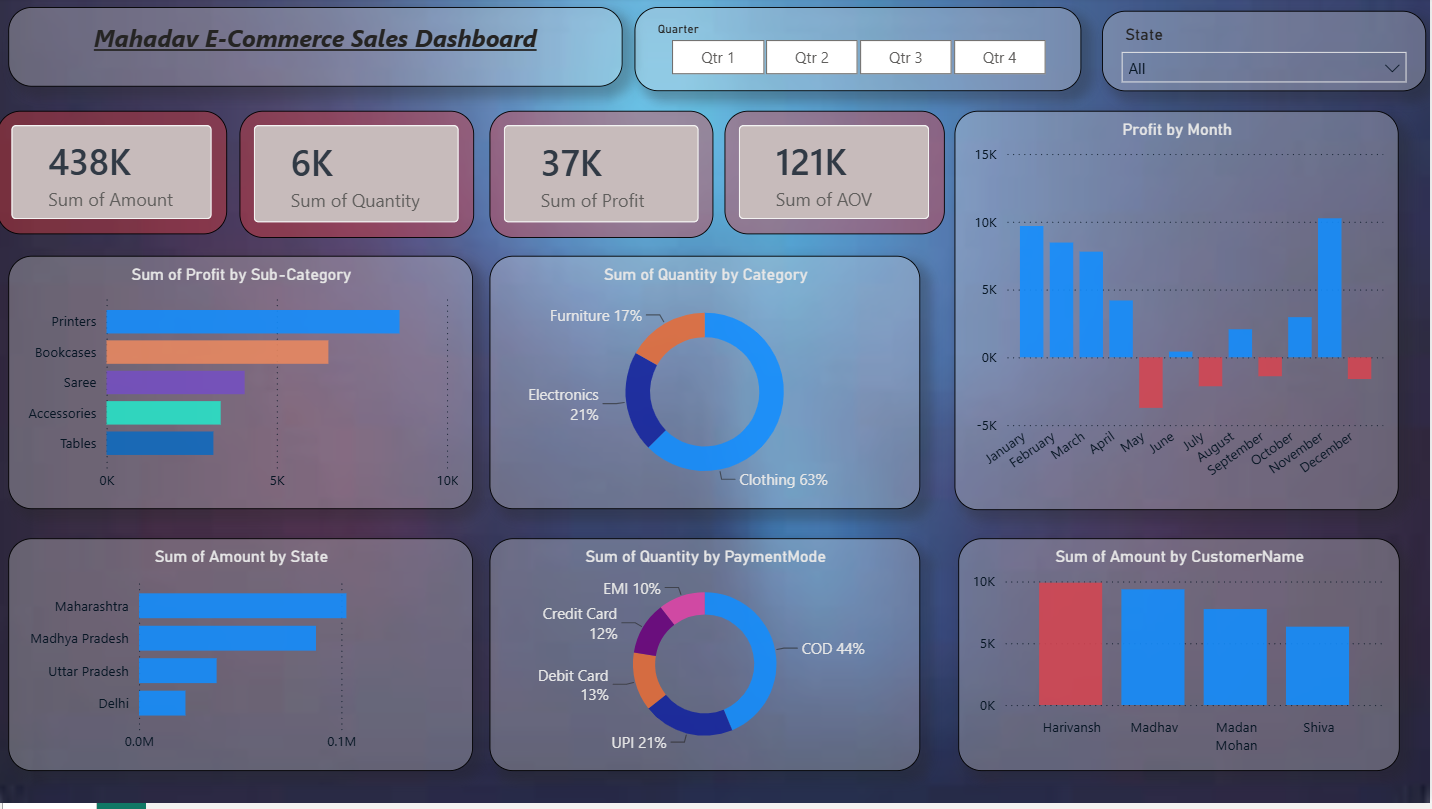

Layout of this report page (visuals, bound fields, positions):
{"tool":"powerbi","page":{"name":"Page 1","canvas":[1280,720],"ordinal":0},"visuals":[{"type":"textbox","box":[10.5,9.3,548.8,70.9],"z":0},{"type":"columnChart","title":"Profit by Month","fields":{"Category":["Orders (1).Order Date.Variation.Date Hierarchy.Month"],"Y":["Sum(Details (1).Profit)"]},"box":[855.8,101.2,396.5,357],"z":1000},{"type":"barChart","fields":{"Category":["Details (1).Sub-Category"],"Y":["Sum(Details (1).Profit)"]},"box":[10.5,231.4,415.1,226.7],"z":2000},{"type":"donutChart","fields":{"Category":["Details (1).Category"],"Y":["Sum(Details (1).Quantity)"]},"box":[439.5,231.4,384.9,226.7],"z":3000},{"type":"donutChart","fields":{"Category":["Details (1).PaymentMode"],"Y":["Sum(Details (1).Quantity)"]},"box":[439.5,483.7,384.9,208.1],"z":4000},{"type":"cardVisual","fields":{"Data":["Sum(Details (1).Amount)"]},"box":[0,101.2,205.8,110.5],"z":4001},{"type":"cardVisual","fields":{"Data":["Sum(Details (1).Quantity)"]},"box":[216.3,101.2,209.3,114],"z":4002},{"type":"cardVisual","fields":{"Data":["Sum(Details (1).Profit)"]},"box":[439.5,101.2,200,114],"z":4003},{"type":"cardVisual","fields":{"Data":["Sum(Details (1).AOV)"]},"box":[650,101.2,196.5,110.5],"z":4004},{"type":"barChart","fields":{"Category":["Orders (1).State"],"Y":["Sum(Details (1).Amount)"]},"box":[10.5,483.7,415.1,208.1],"z":4005},{"type":"columnChart","fields":{"Y":["Sum(Details (1).Amount)"],"Category":["Orders (1).CustomerName"]},"box":[858.1,483.7,394.2,208.1],"z":4006},{"type":"slicer","fields":{"Values":["Orders (1).Order Date.Variation.Date Hierarchy.Quarter"]},"box":[569.8,9.3,398.8,75.6],"z":4007},{"type":"slicer","fields":{"Values":["Orders (1).State"]},"box":[987.2,12.8,289.5,72.1],"z":4008}]}

Visuals, with their boxes in screenshot pixels (x1, y1, x2, y2), scaled from the page's 1280x720 canvas onto the 1432x809 screenshot:
textbox: bbox=(12, 10, 626, 90)
"Profit by Month" columnChart: bbox=(957, 114, 1401, 515)
barChart - Details (1).Sub-Category x Sum(Details (1).Profit): bbox=(12, 260, 476, 515)
donutChart - Details (1).Category x Sum(Details (1).Quantity): bbox=(492, 260, 922, 515)
donutChart - Details (1).PaymentMode x Sum(Details (1).Quantity): bbox=(492, 543, 922, 777)
cardVisual - Sum(Details (1).Amount): bbox=(0, 114, 230, 238)
cardVisual - Sum(Details (1).Quantity): bbox=(242, 114, 476, 242)
cardVisual - Sum(Details (1).Profit): bbox=(492, 114, 715, 242)
cardVisual - Sum(Details (1).AOV): bbox=(727, 114, 947, 238)
barChart - Orders (1).State x Sum(Details (1).Amount): bbox=(12, 543, 476, 777)
columnChart - Sum(Details (1).Amount) x Orders (1).CustomerName: bbox=(960, 543, 1401, 777)
slicer - Orders (1).Order Date.Variation.Date Hierarchy.Quarter: bbox=(637, 10, 1084, 95)
slicer - Orders (1).State: bbox=(1104, 14, 1428, 95)
